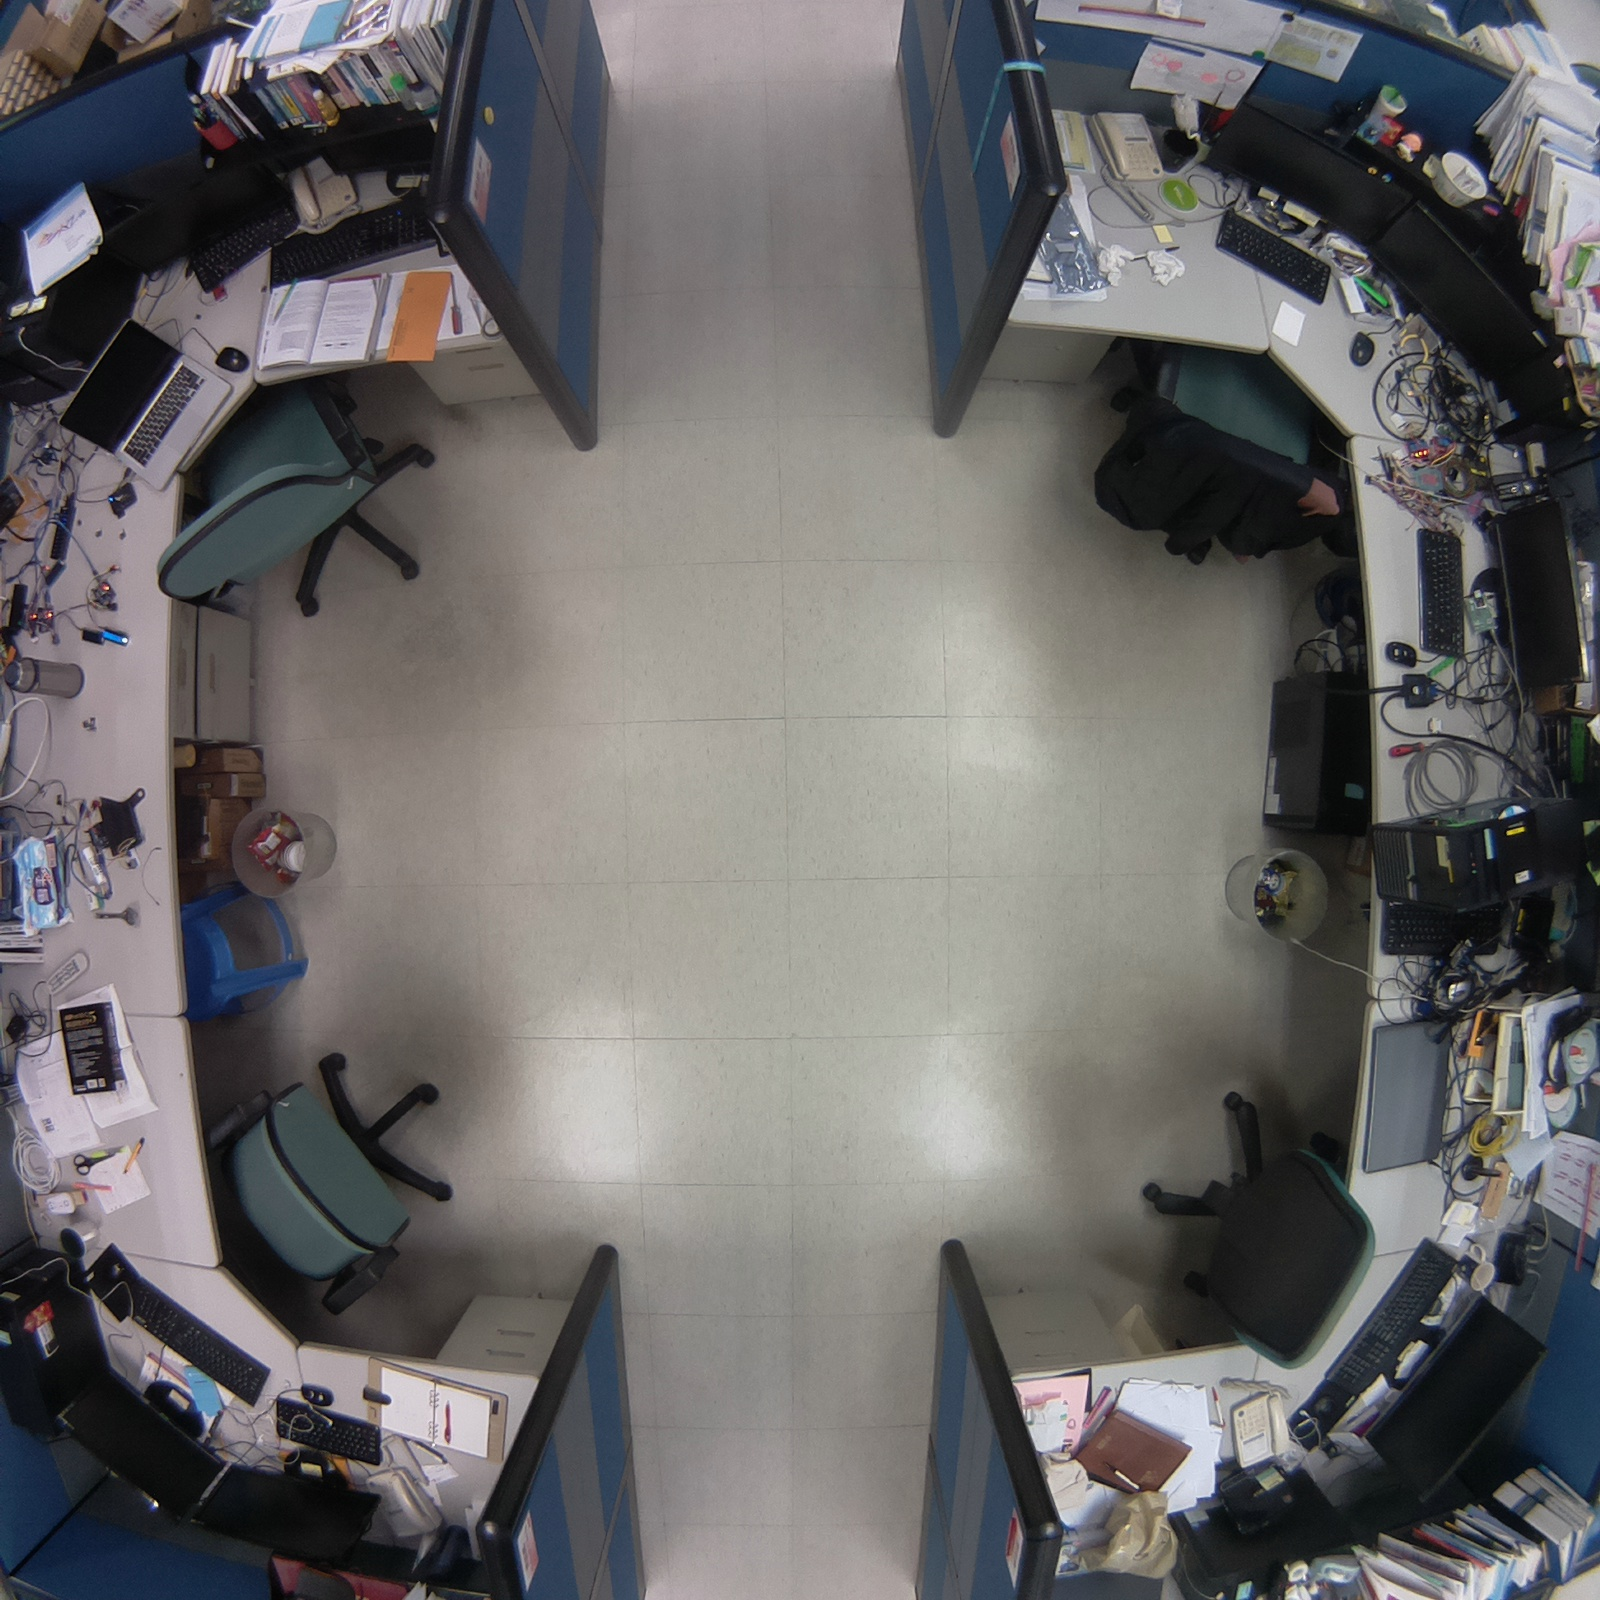chair: (138, 347, 476, 645), (168, 1034, 481, 1326), (1062, 308, 1376, 585), (1122, 1070, 1389, 1390)
